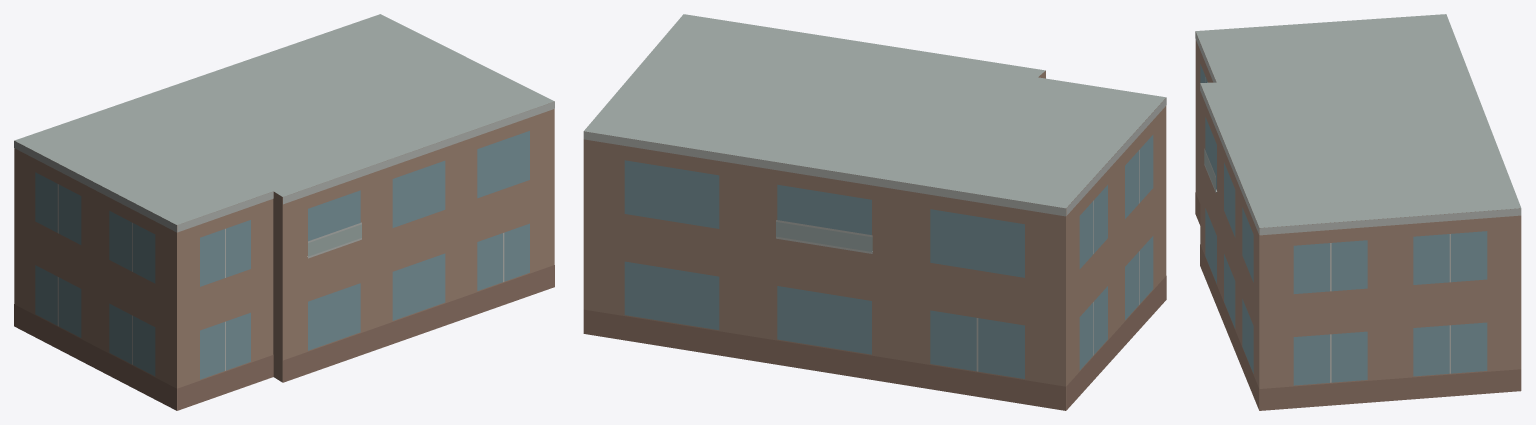
The model's file is survey-upis-32950018.glb.
3 views of the same model, side by side, from view 1: azimuth 30°, elevation 25°; view 2: azimuth 150°, elevation 25°; view 3: azimuth 270°, elevation 25° (orthographic). The views are drawn at different scales.
Visible parts, largest first — view 1: survey-upis-32950018.tmp; view 2: survey-upis-32950018.tmp; view 3: survey-upis-32950018.tmp.
Part boxes in pixels (x1,y1,x2,y2): survey-upis-32950018.tmp: (14,14,554,410); survey-upis-32950018.tmp: (583,14,1166,410); survey-upis-32950018.tmp: (1195,14,1521,410).
Bounding box in the file's own units: 15.34 × 6.1 × 9.87.
